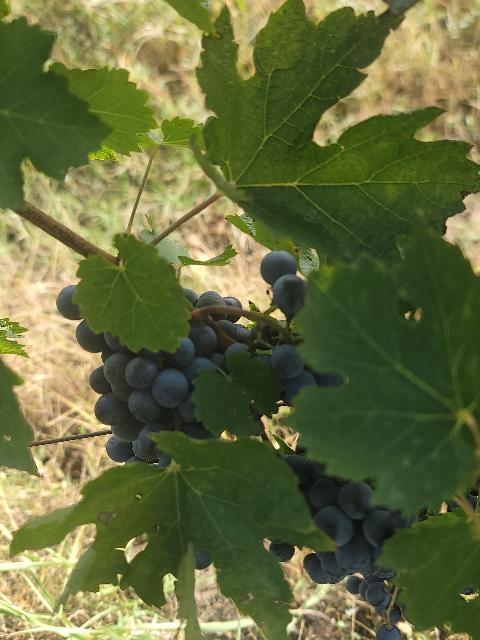grapes: (76, 320, 218, 464), (300, 461, 415, 620), (254, 342, 342, 406)
